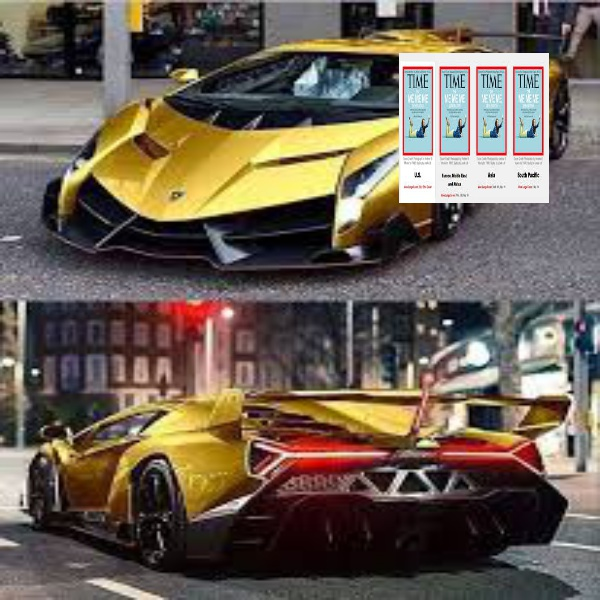time_cover: (401, 62, 435, 157), (478, 61, 510, 159), (446, 62, 471, 163), (517, 61, 543, 157)
